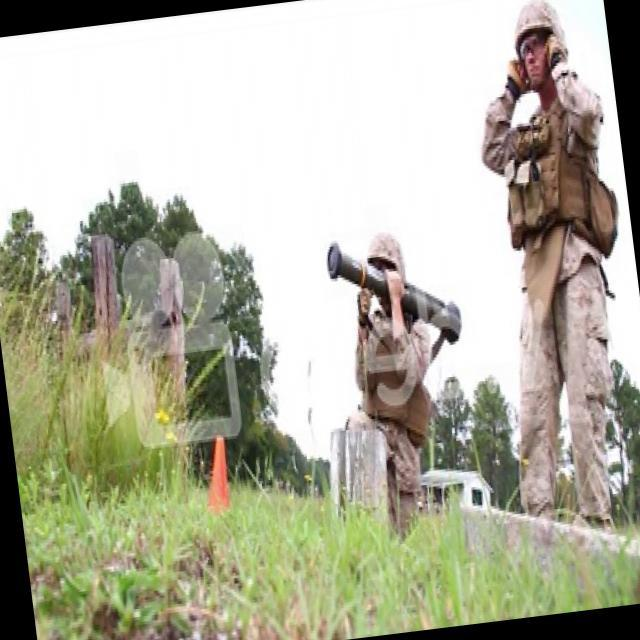rocket: (323, 224, 465, 366)
